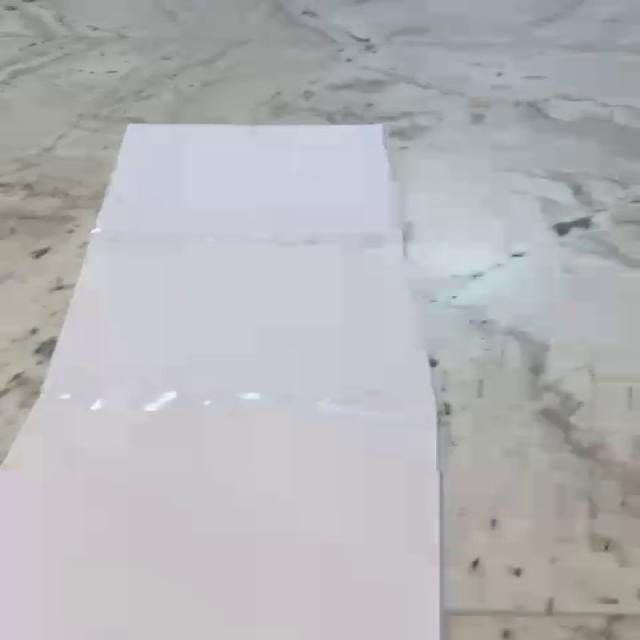road: (0, 122, 441, 640)
